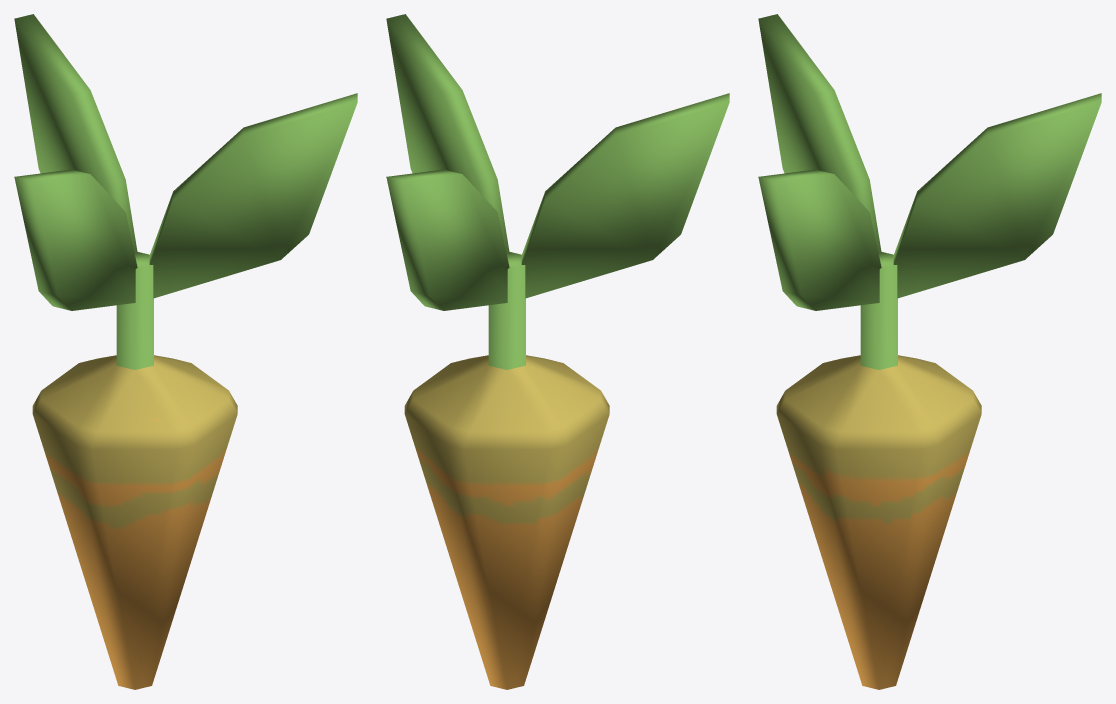
Rendered from carrot.obj.
The picture shows the model from 3 angles, left to right: view 1: azimuth 30°, elevation 25°; view 2: azimuth 150°, elevation 25°; view 3: azimuth 270°, elevation 25°; orthographic projection.
Visible parts, largest first — view 1: Cube; view 2: Cube; view 3: Cube.
Boxes of the visible parts, left/top/right/bottom form: Cube: left=14, top=14, right=357, bottom=689; Cube: left=386, top=14, right=729, bottom=689; Cube: left=758, top=14, right=1101, bottom=689.
Size of the model in its own units: 3.56 by 5.79 by 3.09.
Materials: 1 (1 with a texture image).
